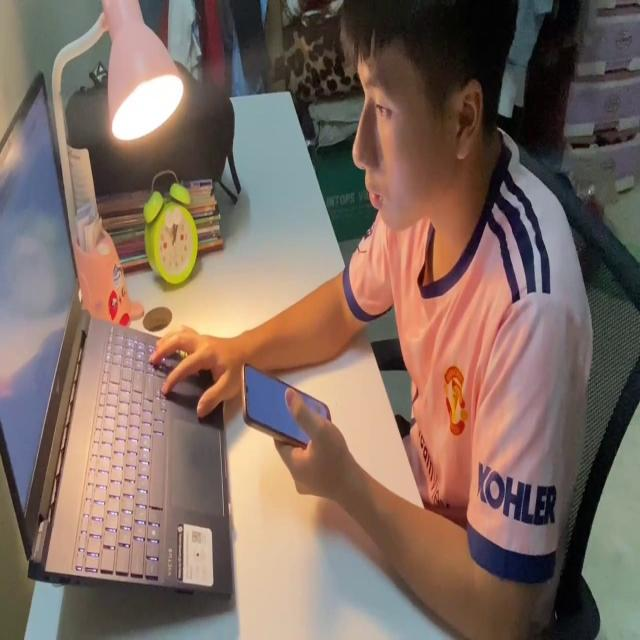laptop: (1, 69, 234, 605)
phone: (238, 352, 336, 454)
student: (149, 0, 591, 640)
